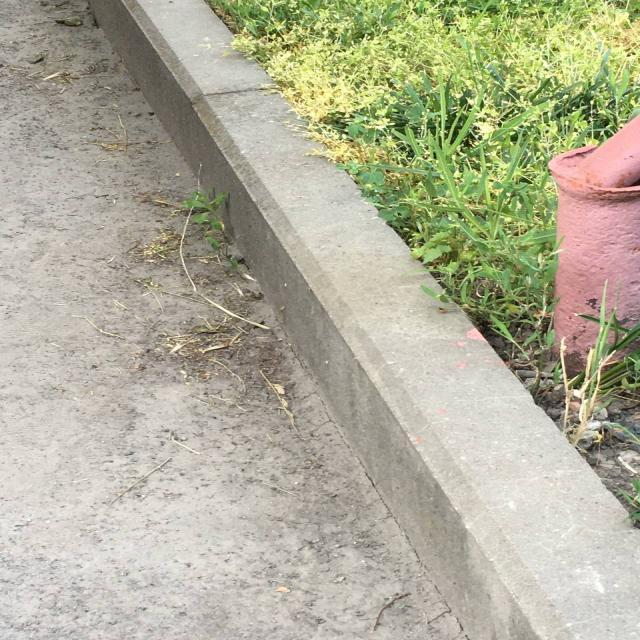bump: (293, 280, 639, 639), (179, 90, 414, 369), (75, 0, 270, 158)
